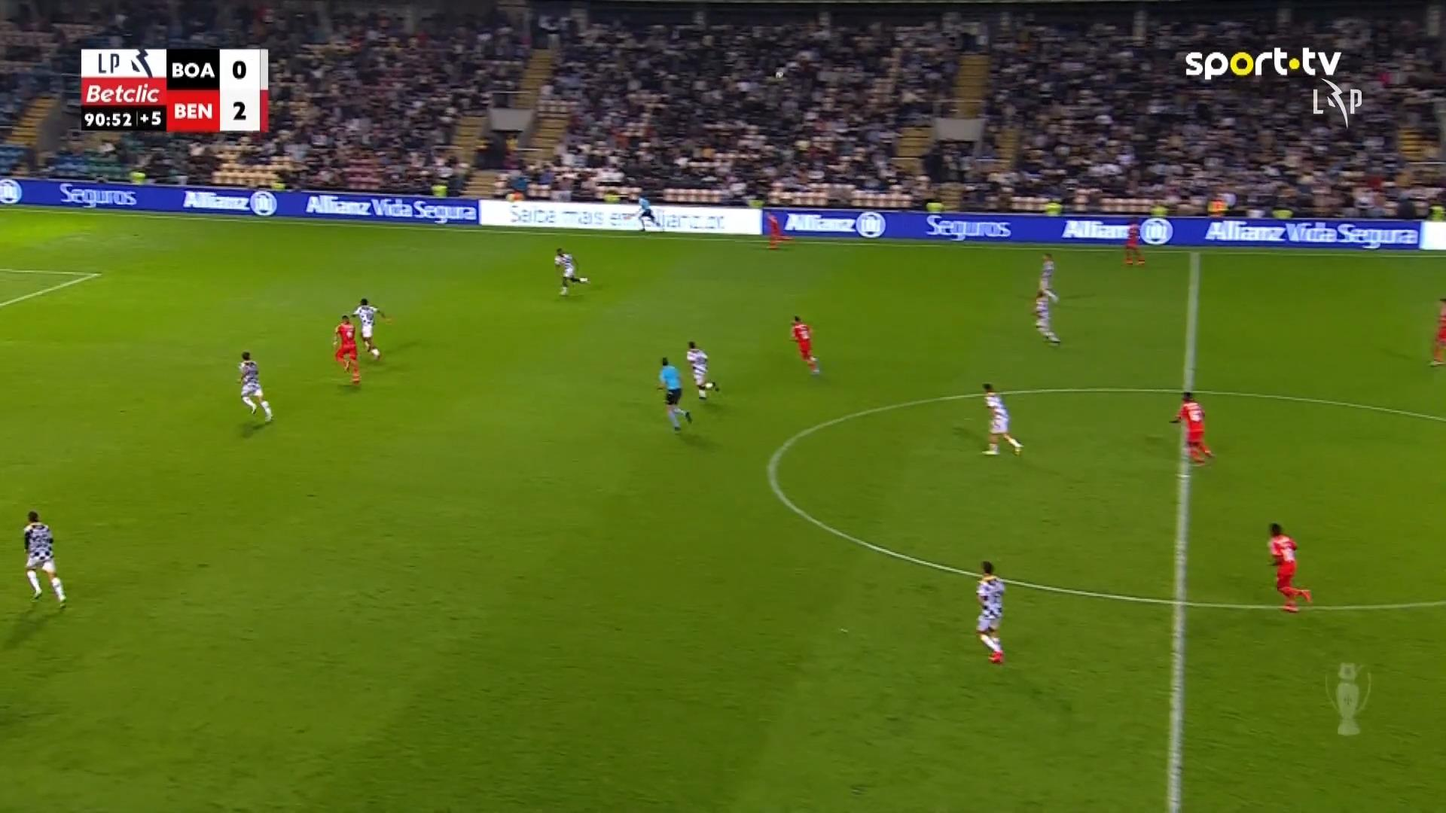player: (22, 510, 66, 603), (1266, 522, 1311, 612), (1169, 390, 1214, 464), (974, 560, 1005, 663), (980, 382, 1023, 456), (236, 350, 273, 423), (1033, 251, 1060, 343), (351, 297, 389, 358), (685, 340, 720, 400), (332, 314, 361, 384), (789, 314, 820, 375), (553, 247, 589, 296), (1428, 297, 1445, 366), (1036, 251, 1057, 301), (1123, 221, 1145, 264), (764, 211, 783, 248)
referee: (656, 355, 692, 431), (633, 194, 660, 233)
